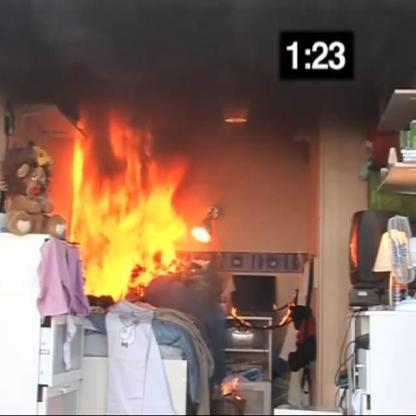Fire: (68, 89, 191, 302)
